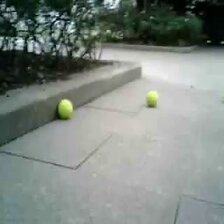tennis: (57, 98, 72, 116), (144, 90, 159, 106)
